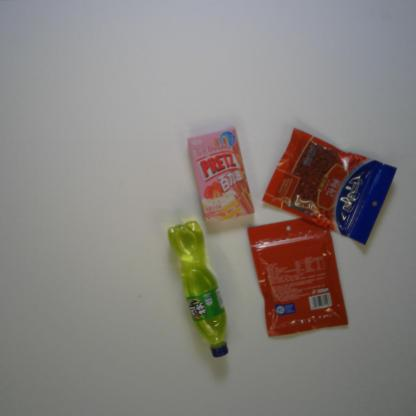Dessert: (187, 127, 257, 228)
Dried Fruit: (260, 128, 398, 244), (247, 217, 351, 340)
Drink: (168, 220, 231, 359)
